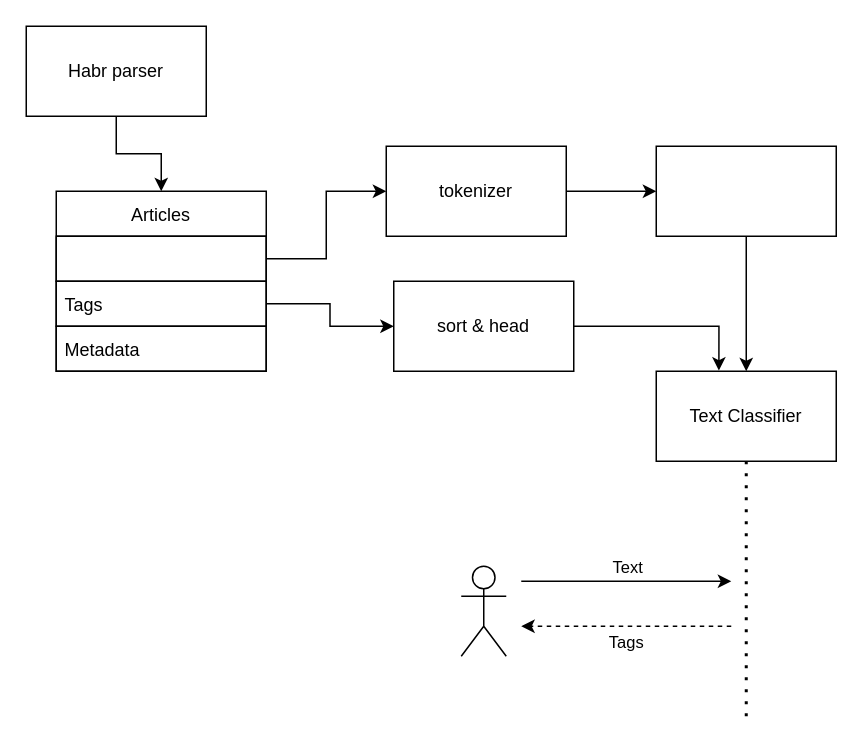
The diagram is 863 pixels wide and 746 high, and some of its shapes have lost their labels. Each missing label, with the box of its shape:
Actor: (460, 565, 506, 656)
Content: (55, 235, 266, 281)
word2vec model: (655, 145, 836, 236)
